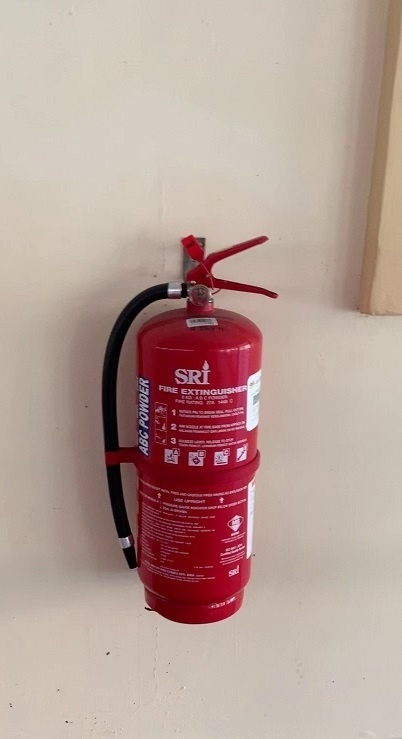fire_extinguisher: (101, 234, 279, 625)
